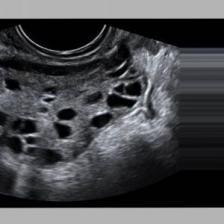pcos: (0, 46, 163, 170)
